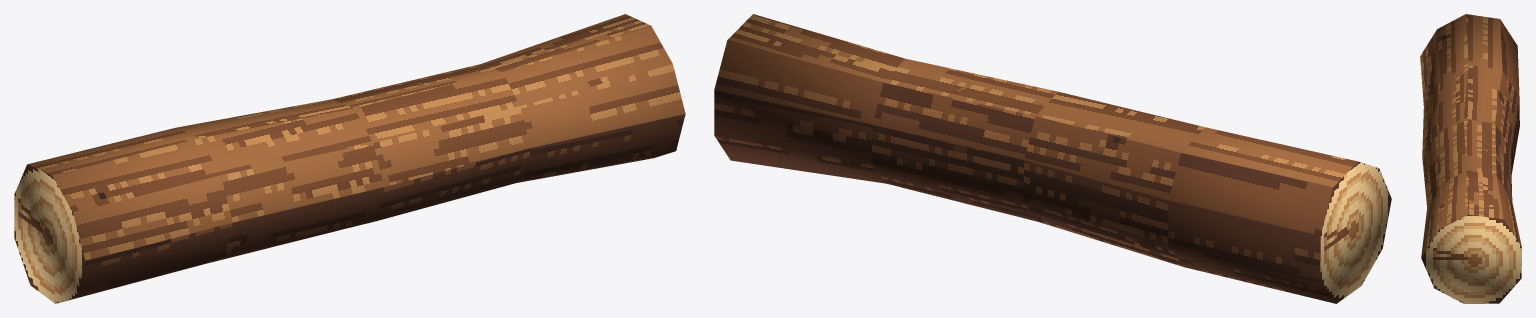
File: log.glb
3 views of the same model, side by side, from view 1: azimuth 30°, elevation 25°; view 2: azimuth 150°, elevation 25°; view 3: azimuth 270°, elevation 25° (orthographic). The views are drawn at different scales.
Visible parts, largest first — view 1: log; view 2: log; view 3: log.
Boxes of the visible parts, x1,y1,x2,y2 form: log: [14, 14, 685, 303]; log: [714, 14, 1391, 303]; log: [1420, 14, 1521, 303].
Size of the model in its own units: 3 by 0.6198 by 0.6398.
Materials: 1 (1 with a texture image).
